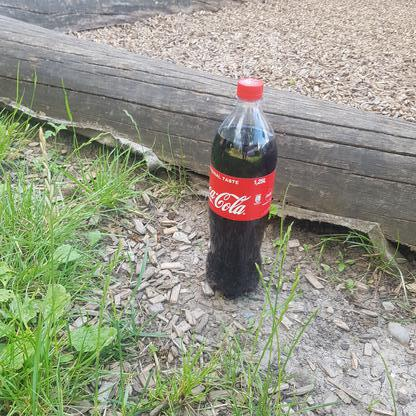coca-cola: (204, 76, 279, 302)
